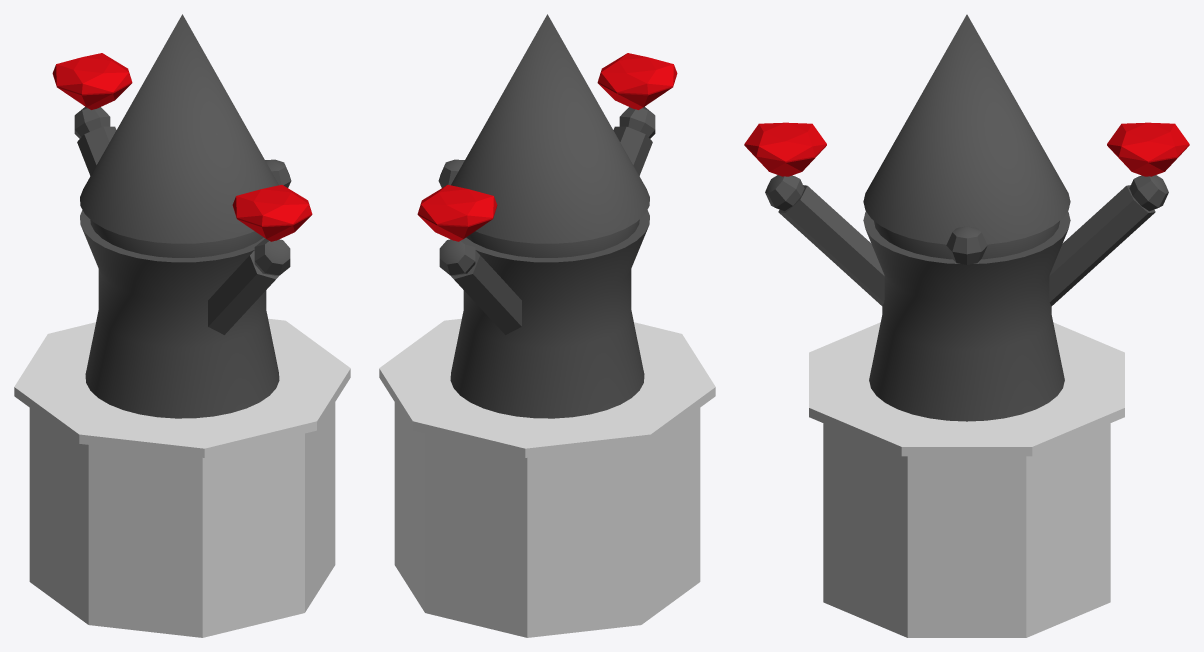
Rendered from ColorStatue.fbx.
The picture shows the model from 3 angles, left to right: view 1: azimuth 30°, elevation 25°; view 2: azimuth 150°, elevation 25°; view 3: azimuth 270°, elevation 25°; orthographic projection.
Visible parts, largest first — view 1: Cylinder, Sphere, dobj, dobj.001; view 2: Cylinder, Sphere, dobj.001, dobj; view 3: Cylinder, Sphere, dobj, dobj.001.
Part boxes in pixels (box(x1,y1,x2,y2)): Cylinder: box(14, 318, 350, 637); Sphere: box(74, 14, 291, 418); dobj: box(232, 185, 312, 241); dobj.001: box(52, 53, 132, 109); Cylinder: box(379, 318, 715, 637); Sphere: box(438, 14, 655, 418); dobj.001: box(417, 185, 497, 241); dobj: box(597, 53, 677, 109); Cylinder: box(809, 322, 1124, 637); Sphere: box(765, 14, 1168, 421); dobj: box(744, 122, 826, 176); dobj.001: box(1107, 122, 1189, 176).
Bounding box in the file's own units: 305 × 600 × 430.
